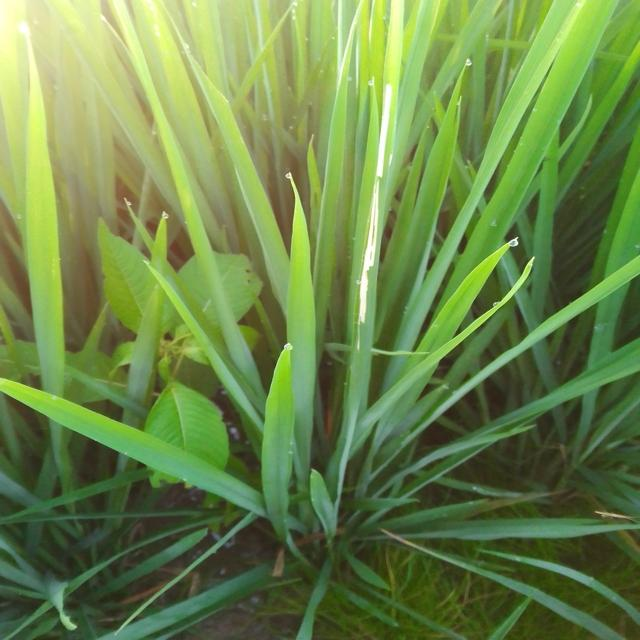Bacterial leaf blight: (347, 67, 412, 350)
